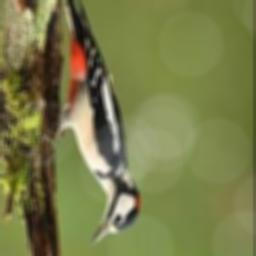Woodpecker: (39, 0, 139, 246)
